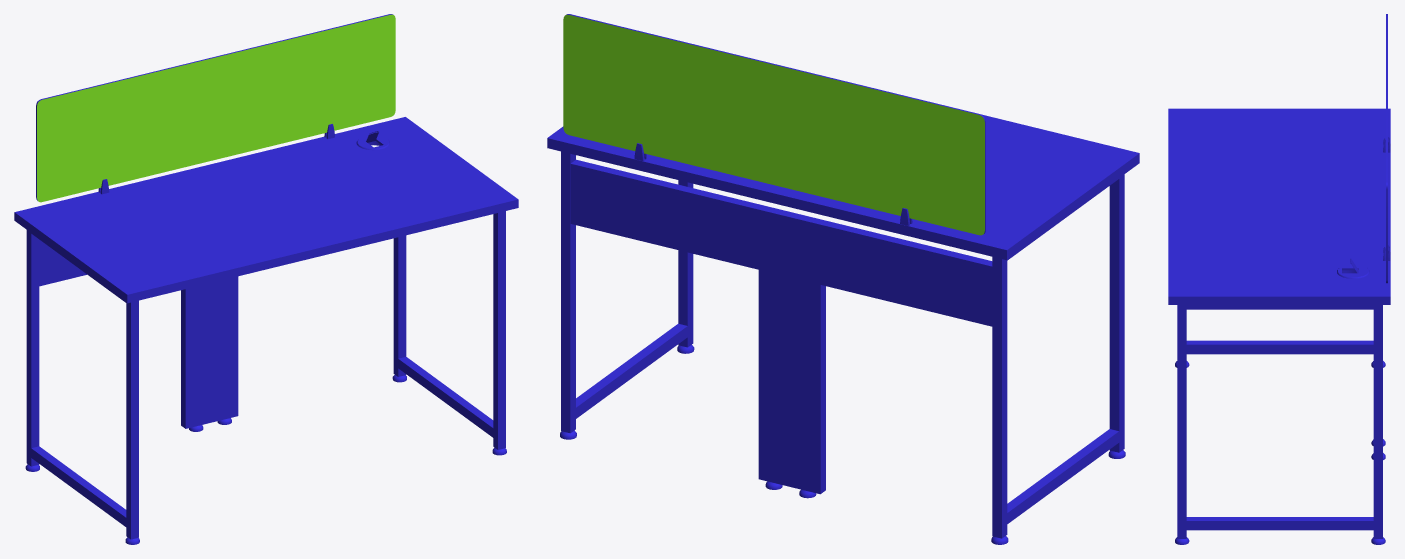
Rendered from workstation.FBX.
3 renders of one model, left to right at view 1: azimuth 30°, elevation 25°; view 2: azimuth 150°, elevation 25°; view 3: azimuth 270°, elevation 25°, orthographic. The views are drawn at different scales.
Parts seen in each view (by area): view 1: WorkStation; view 2: WorkStation; view 3: WorkStation.
Boxes of the visible parts, x1,y1,x2,y2 form: WorkStation: [14, 14, 518, 544]; WorkStation: [547, 14, 1139, 544]; WorkStation: [1168, 14, 1390, 544].
Bounding box in the file's own units: 12 × 10.65 × 6.
